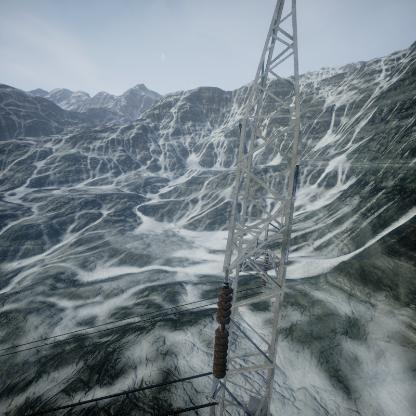insulator: (211, 280, 235, 380)
